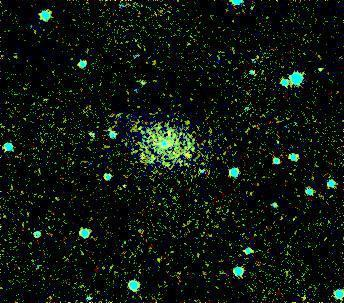star: (172, 139, 202, 169)
